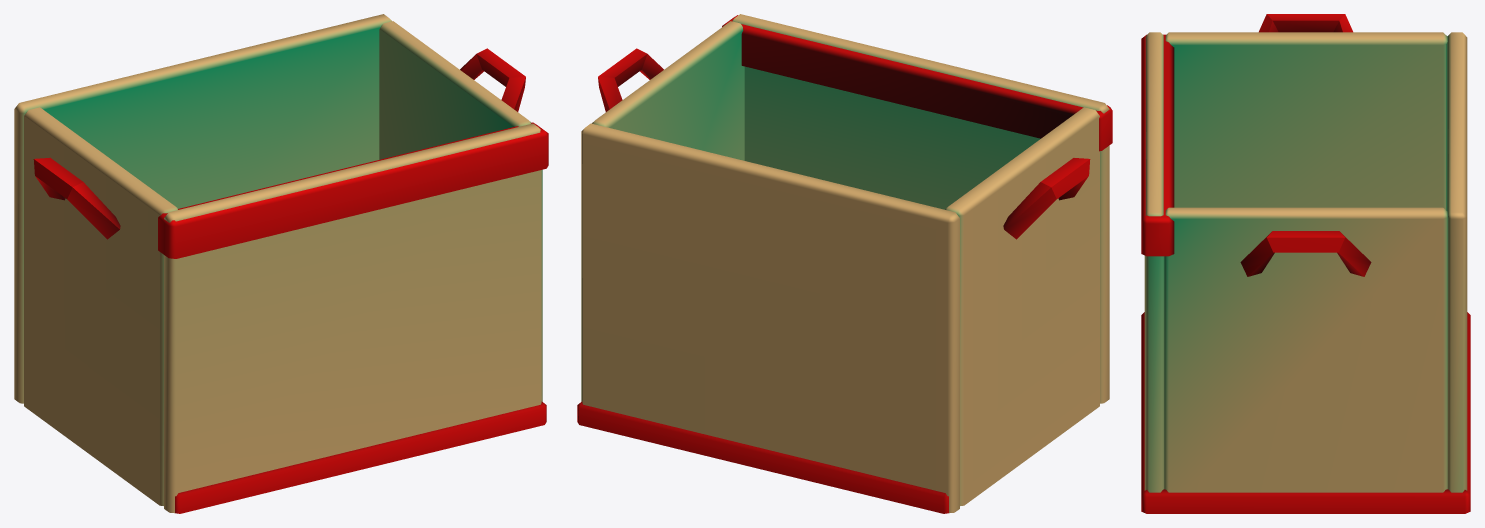
File: CI_Kids_ToyBasket.glb
3 renders of one model, left to right at view 1: azimuth 30°, elevation 25°; view 2: azimuth 150°, elevation 25°; view 3: azimuth 270°, elevation 25°, orthographic.
Parts seen in each view (by area): view 1: CI_Kids_ToyBasket; view 2: CI_Kids_ToyBasket; view 3: CI_Kids_ToyBasket.
Part boxes in pixels (bbox=[...]): CI_Kids_ToyBasket: bbox=[14, 14, 548, 513]; CI_Kids_ToyBasket: bbox=[577, 14, 1112, 513]; CI_Kids_ToyBasket: bbox=[1141, 14, 1470, 513].
Size of the model in its own units: 0.4869 by 0.3 by 0.3.
